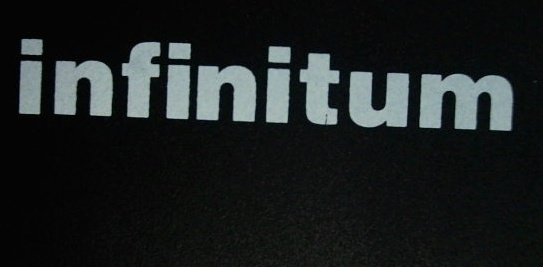BK_infinitum: (13, 33, 515, 136)
